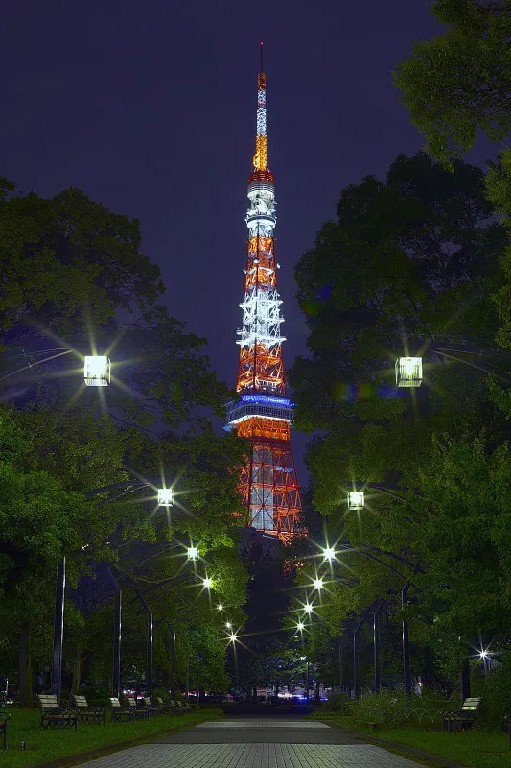Tokyo: (222, 39, 315, 551)
